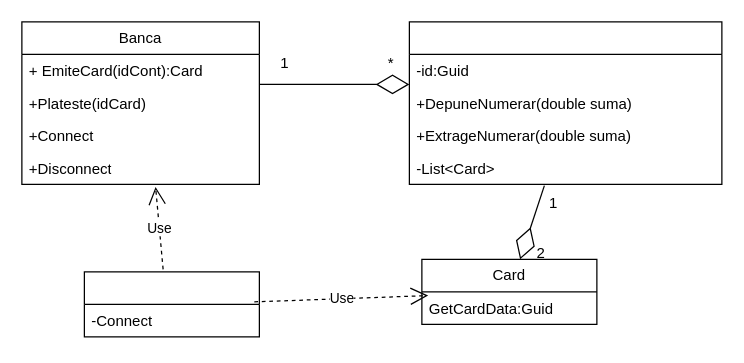
The diagram is 744 pixels wide and 363 high, and some of its shapes have lost their labels. The box of each missing label's shape, as (x1, y1, x2, y2) in pixels:
Cont: (408, 21, 722, 184)
Pos: (83, 271, 259, 337)
